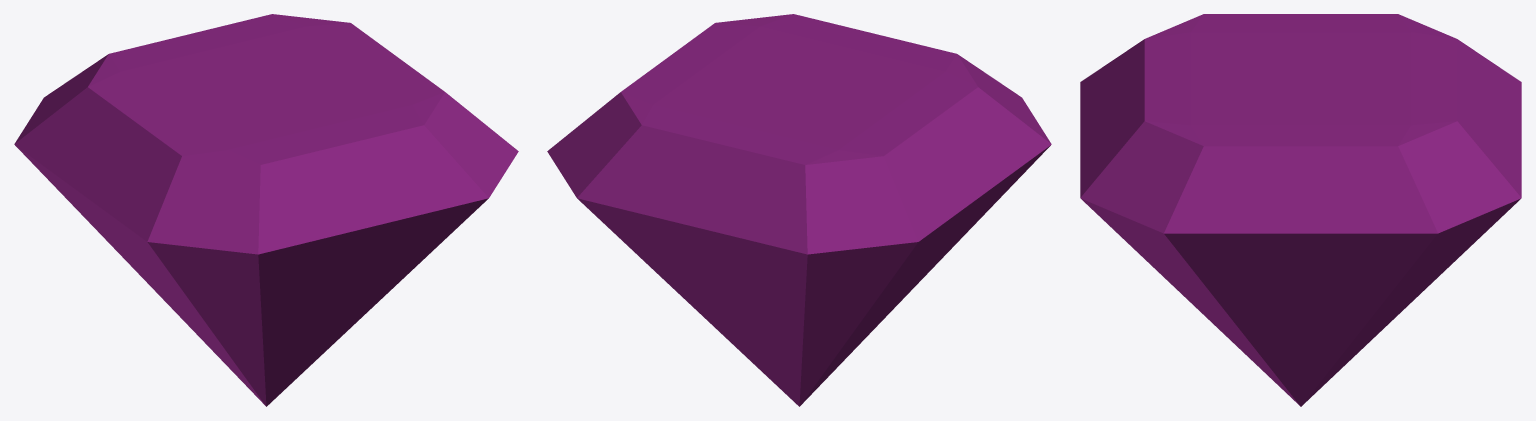
The model's file is Gem017.fbx.
3 renders of one model, left to right at view 1: azimuth 30°, elevation 25°; view 2: azimuth 150°, elevation 25°; view 3: azimuth 270°, elevation 25°, orthographic. The views are drawn at different scales.
Parts seen in each view (by area): view 1: Gem017; view 2: Gem017; view 3: Gem017.
Part boxes in pixels (box(x1,y1,x2,y2)): Gem017: box(14, 14, 518, 406); Gem017: box(547, 14, 1051, 406); Gem017: box(1080, 14, 1521, 406).
Size of the model in its own units: 227 by 186 by 227.
